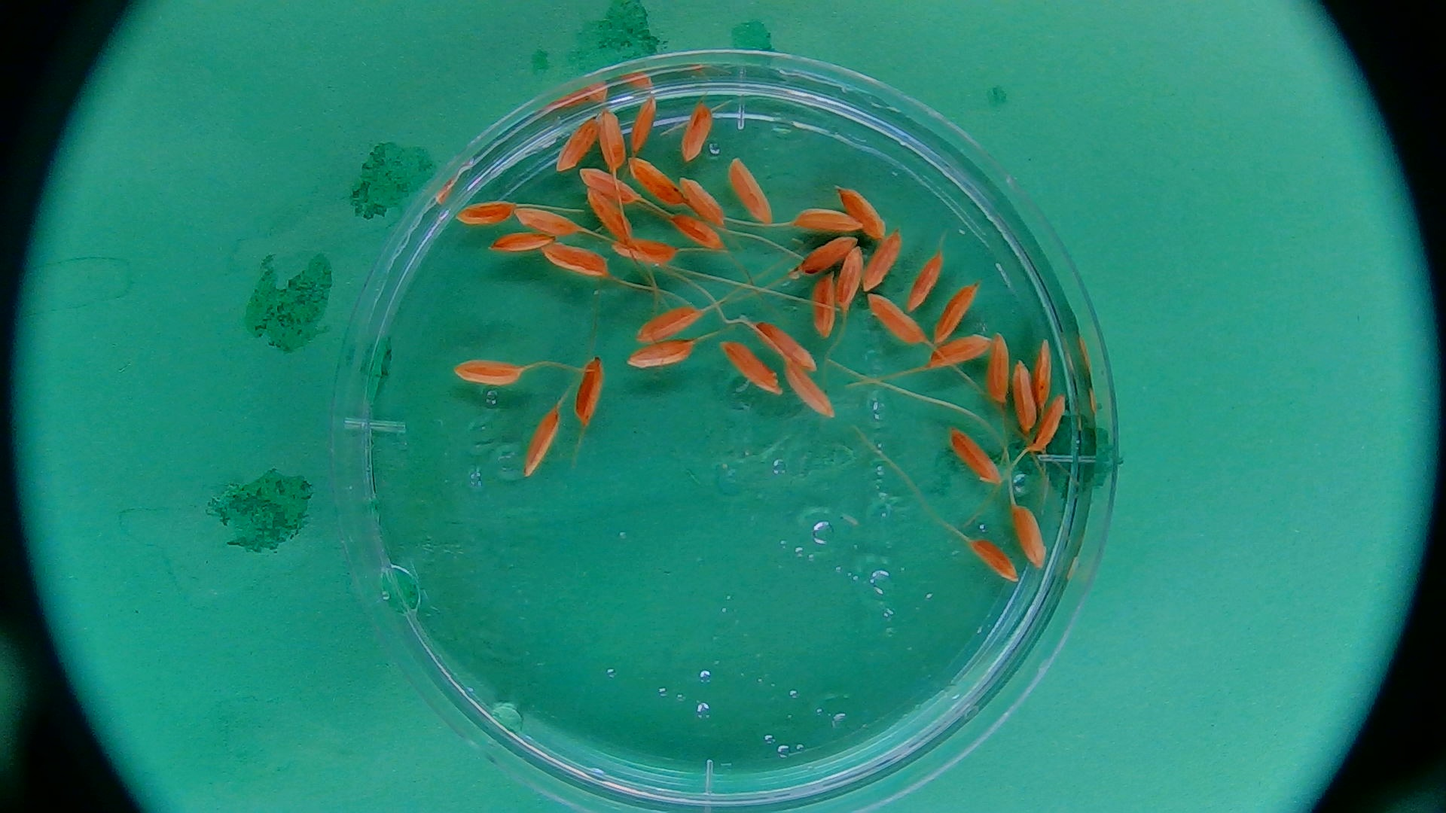no: (626, 149, 693, 220), (860, 291, 933, 355), (724, 148, 779, 228), (752, 321, 825, 377), (1005, 501, 1058, 572), (947, 428, 1008, 489), (837, 181, 895, 243), (576, 187, 636, 245), (541, 239, 616, 284), (725, 341, 782, 399), (545, 117, 605, 172), (790, 202, 867, 244), (784, 359, 837, 419), (577, 163, 646, 208), (624, 88, 667, 160), (588, 105, 633, 173), (832, 243, 871, 321), (1030, 394, 1076, 460), (923, 333, 1000, 372), (679, 170, 729, 230), (983, 324, 1016, 412), (524, 405, 563, 479), (454, 354, 526, 394), (938, 277, 980, 345), (627, 337, 712, 370), (802, 263, 842, 333), (517, 199, 582, 241), (862, 233, 905, 296), (965, 535, 1019, 585), (612, 232, 684, 269), (667, 206, 725, 251), (790, 233, 865, 267), (635, 306, 707, 341), (569, 360, 605, 429), (908, 254, 950, 312), (1013, 356, 1043, 432), (682, 102, 718, 163), (1030, 333, 1058, 411), (459, 193, 518, 226), (487, 231, 560, 249)
